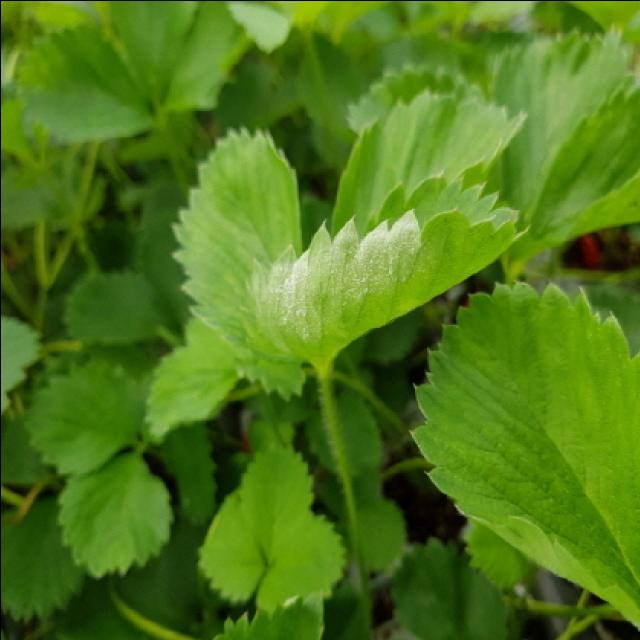Powdery Mildew Leaf: (236, 171, 529, 378)
